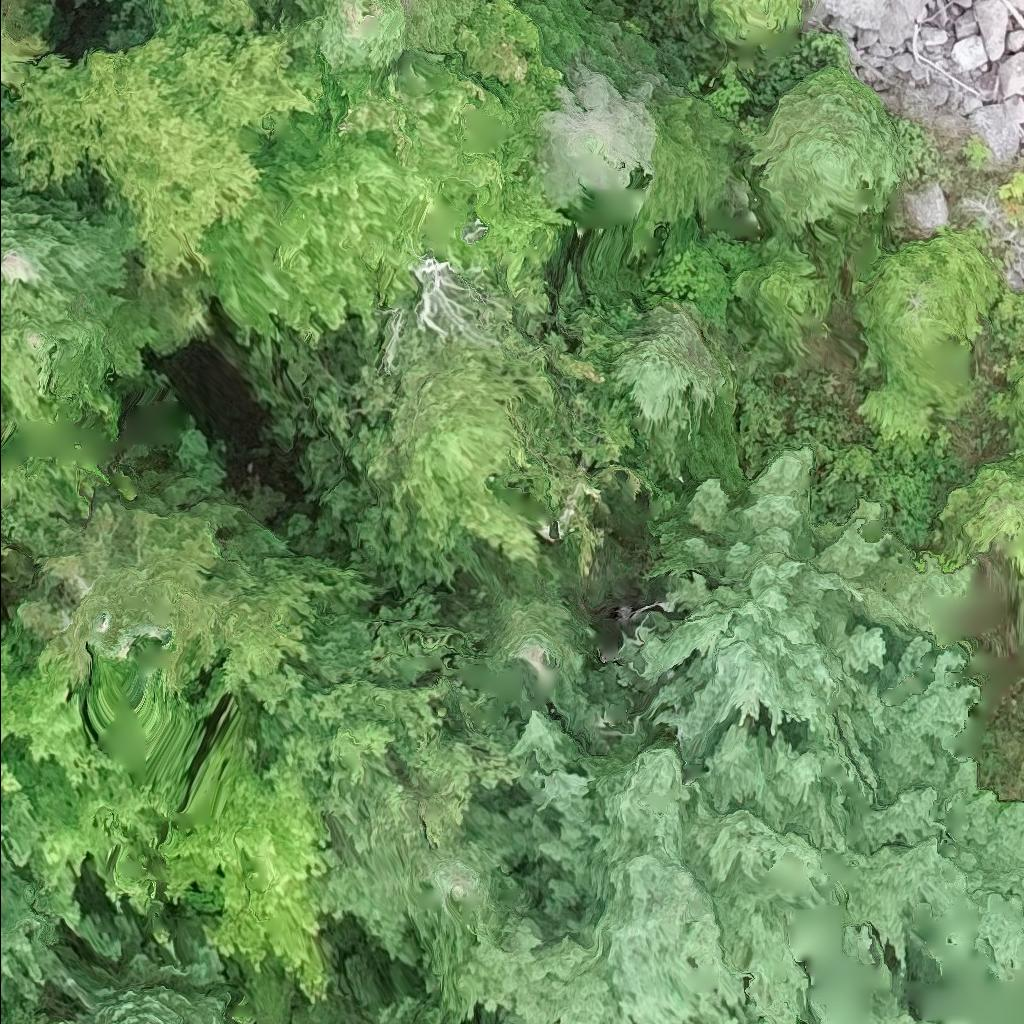crown: (0, 0, 322, 294), (0, 169, 146, 307), (107, 0, 151, 41), (297, 0, 314, 10)
